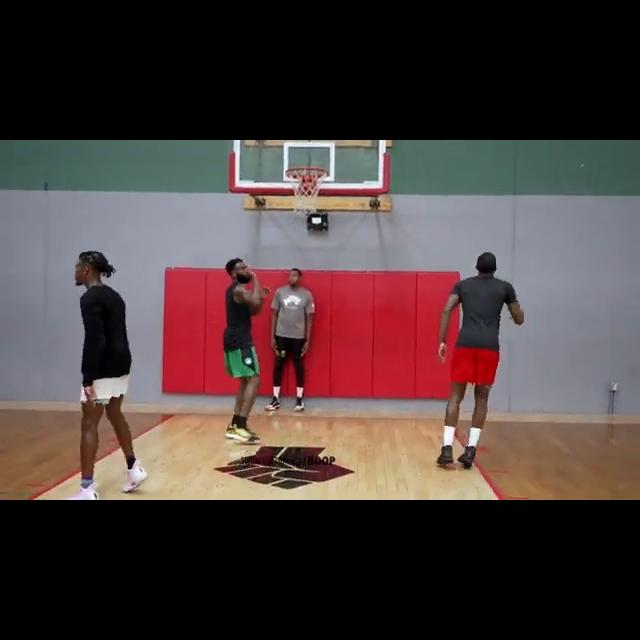hoop: (284, 166, 329, 219)
